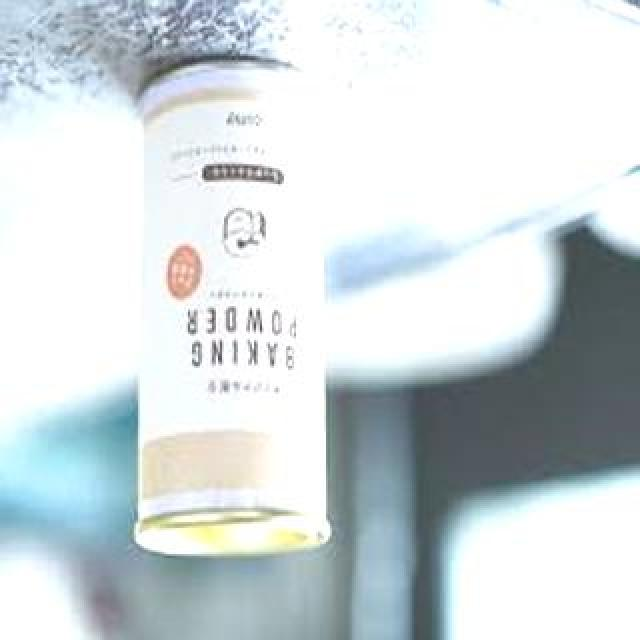Can: (135, 47, 333, 565)
